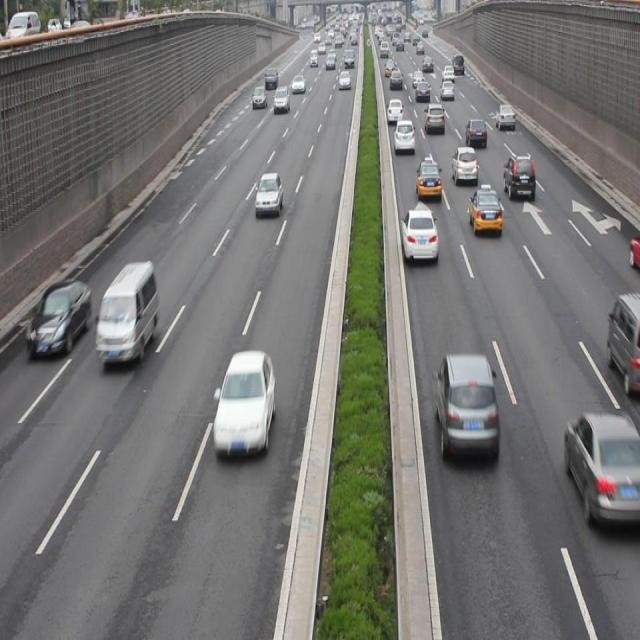car: (564, 410, 640, 520), (435, 352, 497, 460), (214, 350, 276, 455), (27, 278, 92, 357), (401, 208, 436, 264), (468, 186, 501, 236), (502, 150, 532, 196), (256, 172, 282, 217), (415, 159, 441, 200), (451, 145, 476, 186), (394, 119, 416, 154), (464, 116, 487, 147), (424, 102, 444, 134), (496, 101, 515, 130), (387, 98, 403, 122)
truck: (96, 261, 159, 365), (606, 292, 640, 387)
